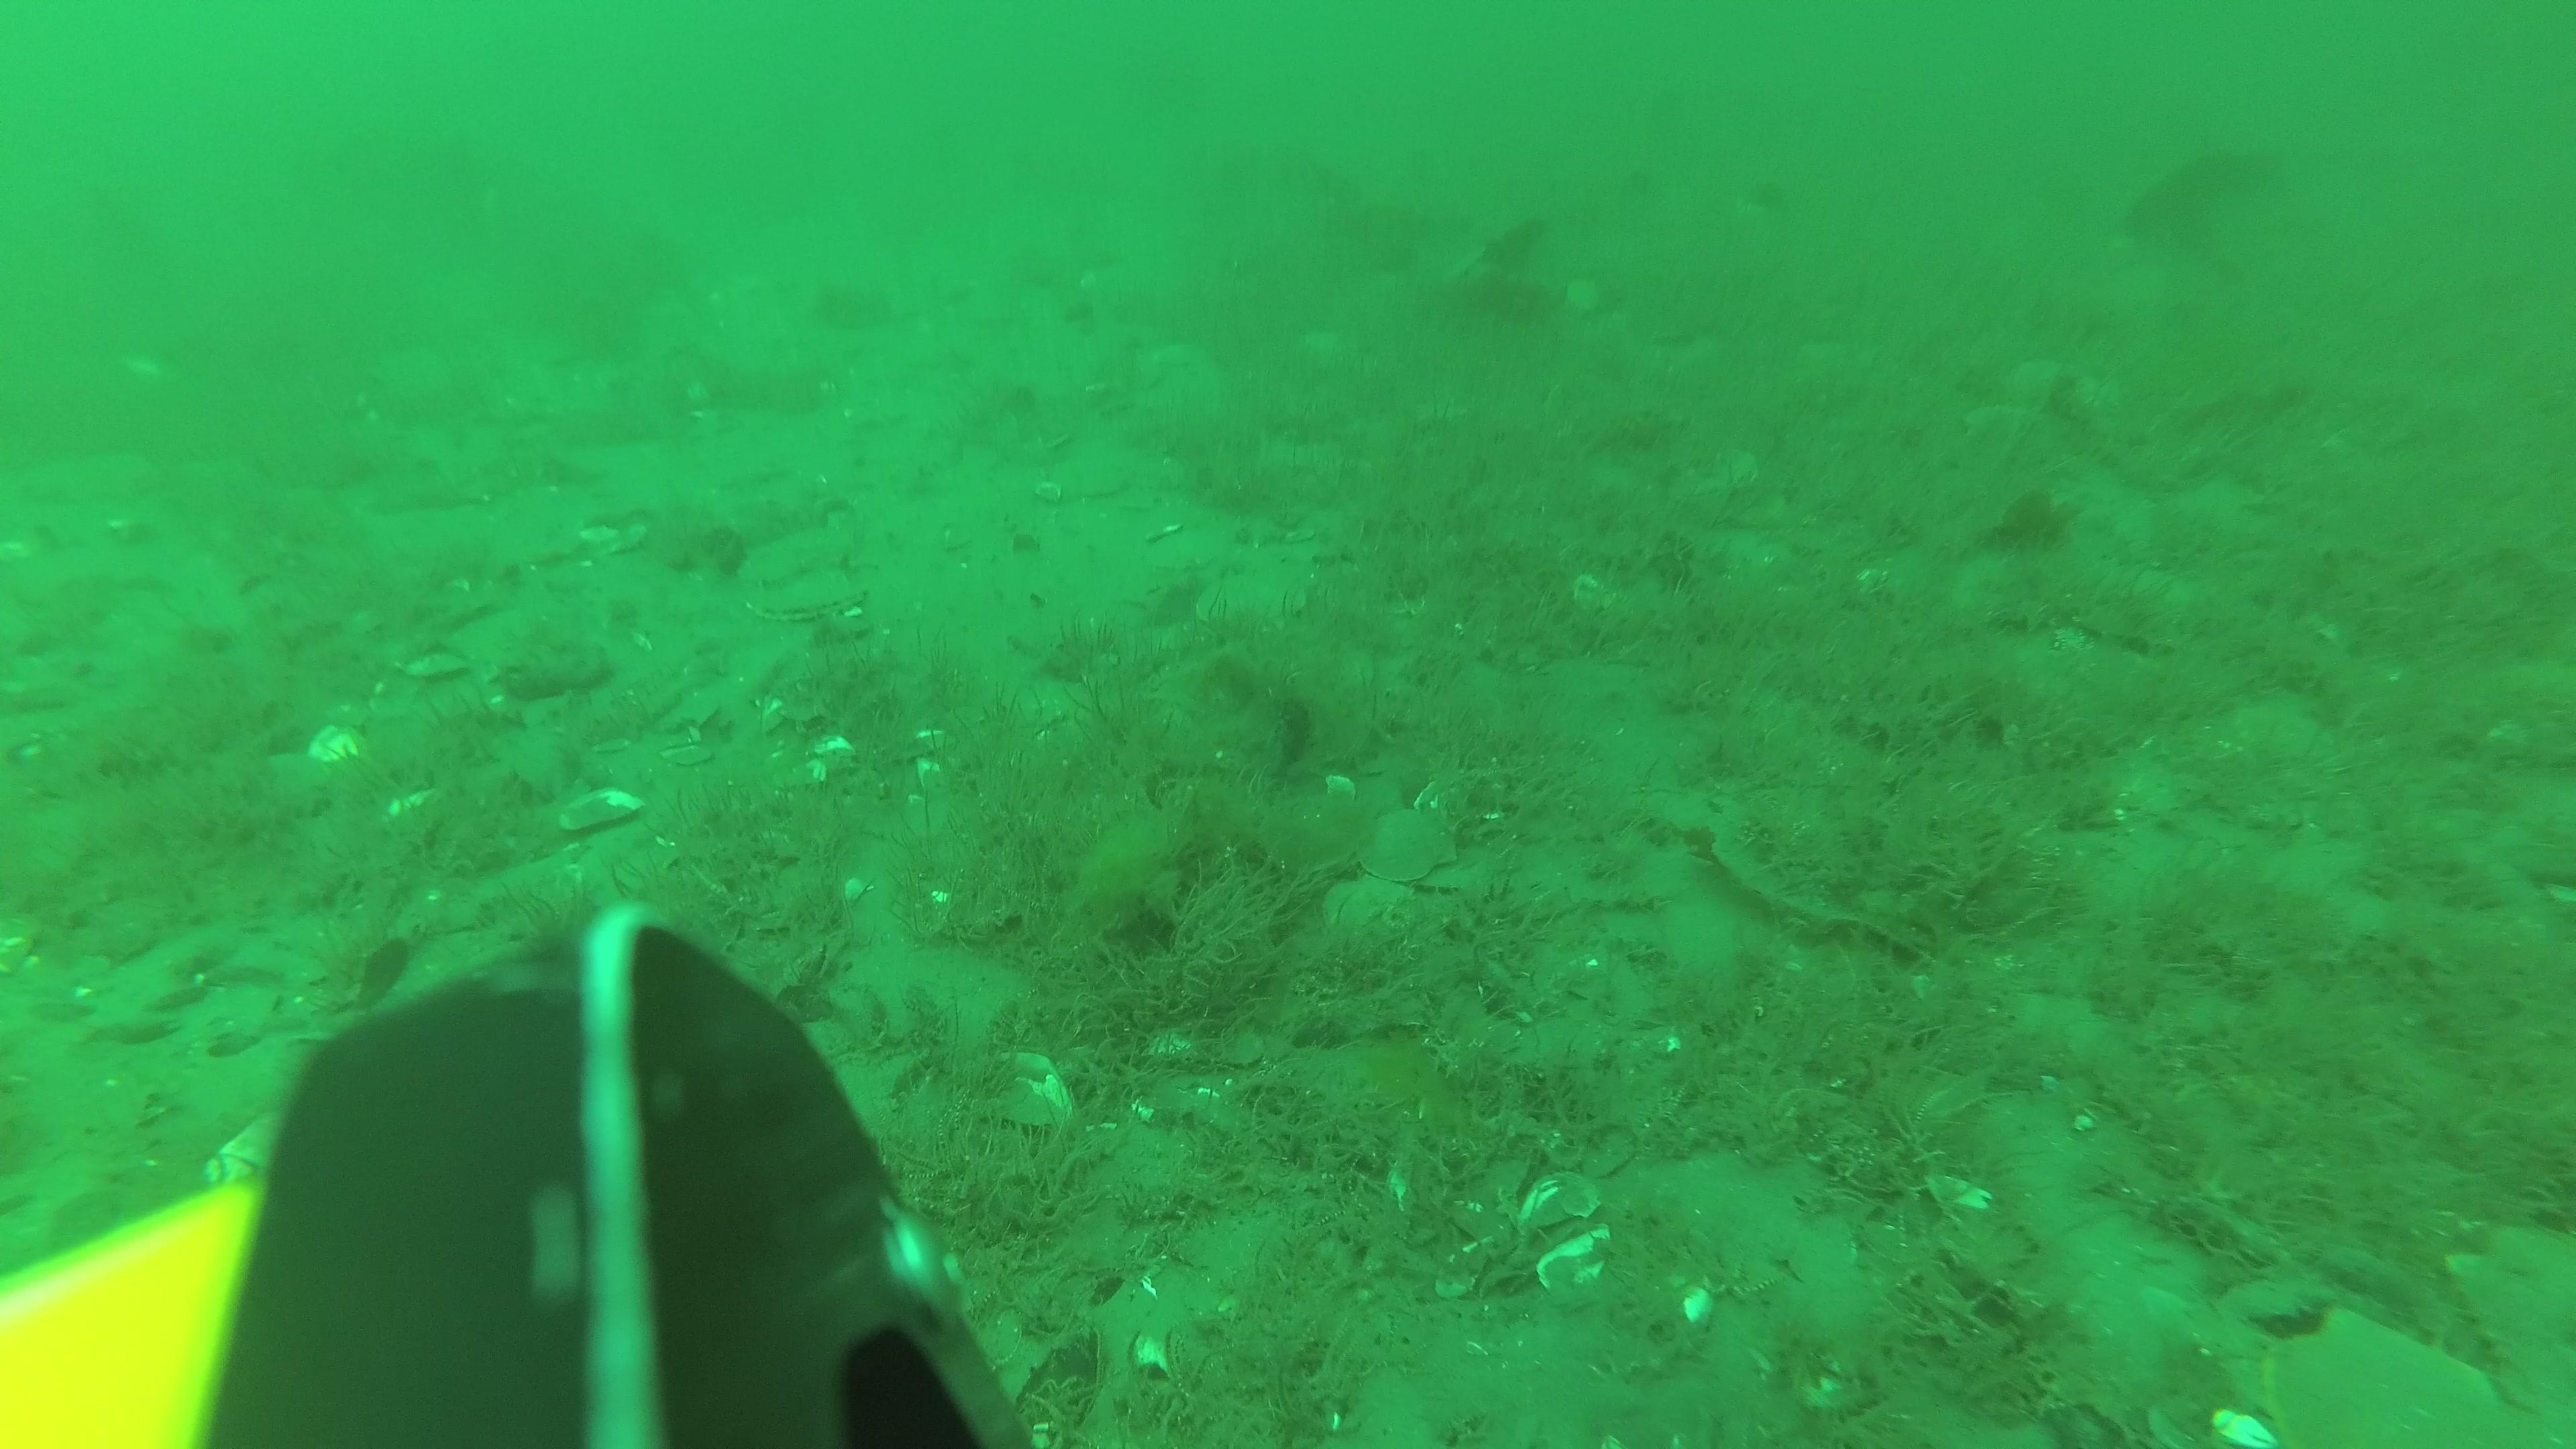scallop: (2261, 1306, 2502, 1449), (1364, 805, 1463, 885), (1323, 874, 1415, 952), (748, 568, 863, 625), (750, 527, 855, 586), (1198, 571, 1307, 625), (1042, 448, 1132, 499), (1146, 525, 1223, 573)
